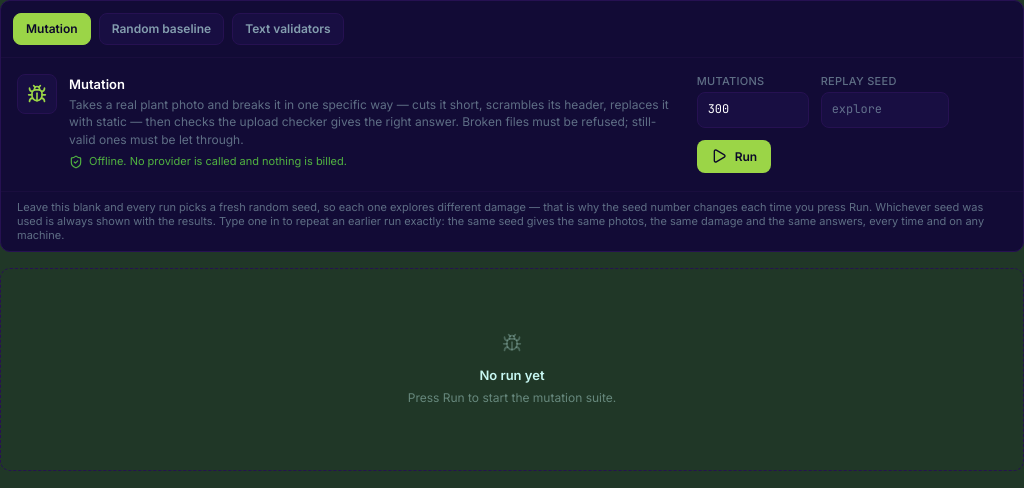
it: FuzzTests › surfaces a runner error instead of a silent no-op
The image size is (1024, 488).
What coordinates should you click on to do the following:
click the button "Run"
I would click on:
 (734, 156)
Its box is top-left (697, 140), bottom-right (771, 173).
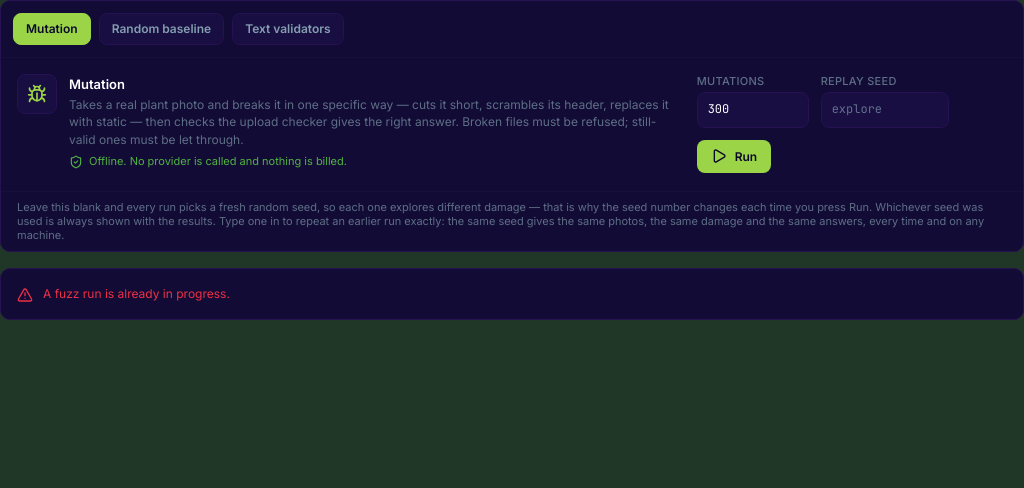
expect the text "A fuzz run is already in progress." is shown: met, box top-left (43, 285), bottom-right (230, 302)
